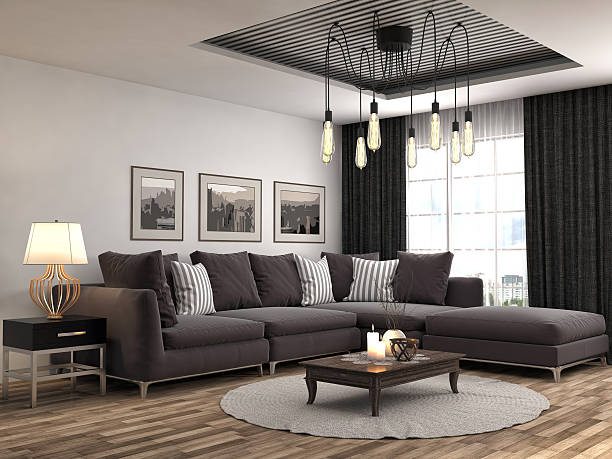sofa: (44, 249, 609, 401)
table: (298, 346, 465, 417)
table lamp: (21, 219, 91, 321)
wall art: (196, 168, 264, 244), (128, 162, 185, 242), (271, 179, 328, 246)
